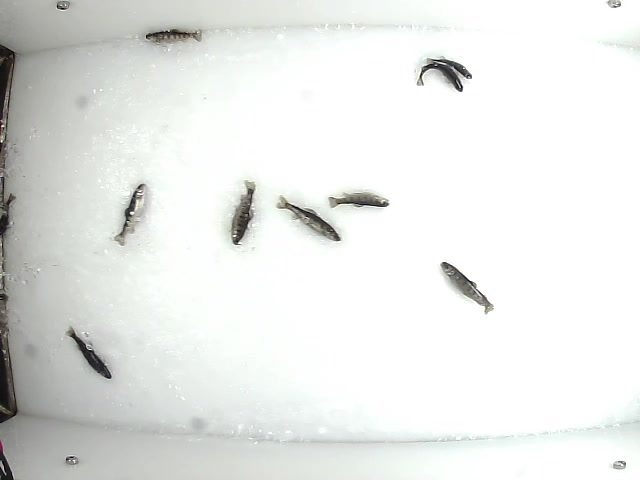fish: (275, 194, 343, 246), (439, 258, 497, 317), (63, 325, 116, 382), (111, 178, 149, 248), (221, 178, 256, 247), (415, 62, 465, 94), (326, 189, 392, 212), (421, 55, 478, 78), (142, 27, 207, 46)
